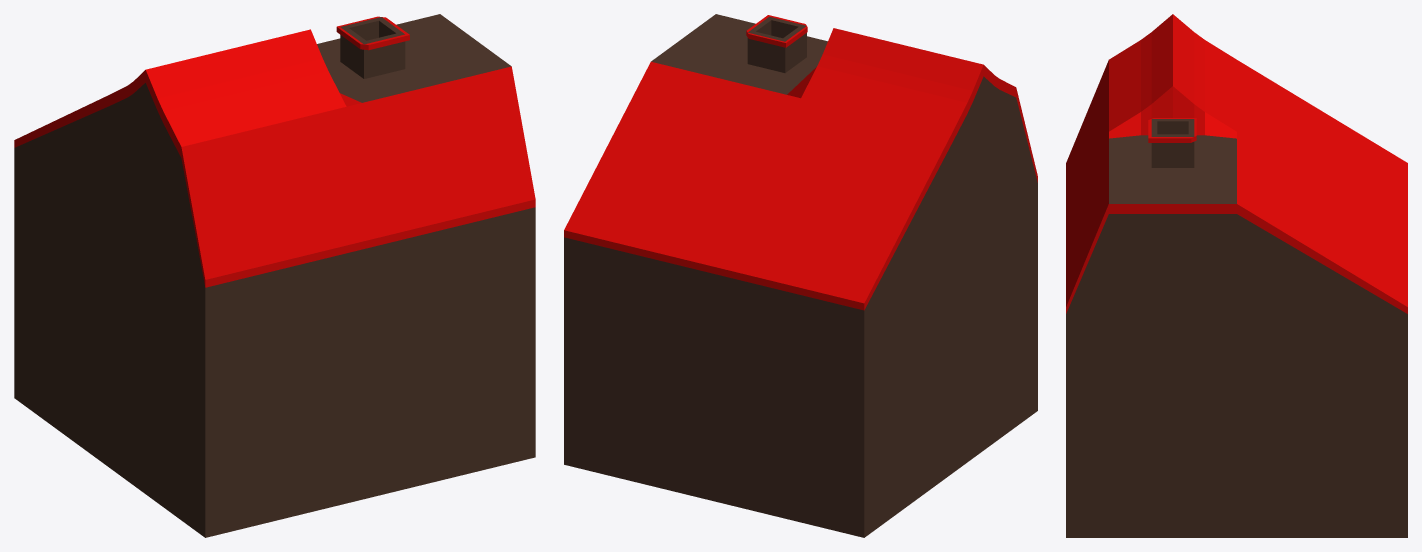
Rendered from House.fbx.
3 renders of one model, left to right at view 1: azimuth 30°, elevation 25°; view 2: azimuth 150°, elevation 25°; view 3: azimuth 270°, elevation 25°, orthographic. The views are drawn at different scales.
Parts seen in each view (by area): view 1: Cube; view 2: Cube; view 3: Cube.
Part boxes in pixels (x1=…): Cube: x1=14, y1=14, x2=535, y2=537; Cube: x1=564, y1=14, x2=1037, y2=537; Cube: x1=1066, y1=14, x2=1407, y2=537.
Bounding box in the file's own units: 401 × 493 × 402.
